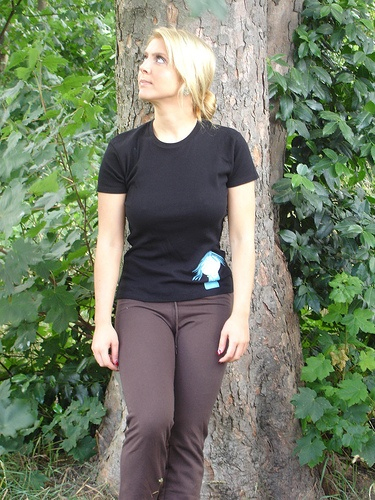head: (137, 28, 216, 102)
person: (90, 16, 262, 500)
